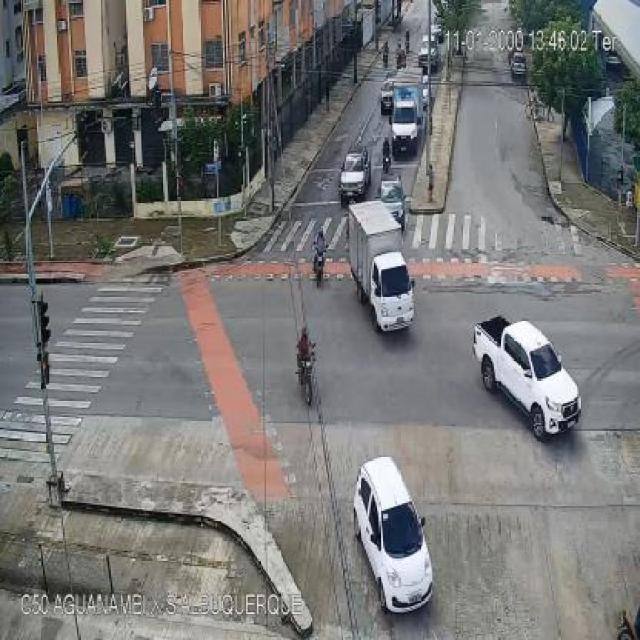Car: (475, 294, 585, 446), (356, 446, 450, 622), (334, 138, 376, 202), (375, 178, 409, 225), (414, 35, 443, 64), (376, 77, 397, 117)
Cycle: (282, 331, 336, 408), (296, 225, 341, 298), (377, 135, 398, 174)
Truck: (344, 200, 419, 336), (382, 71, 427, 154)
